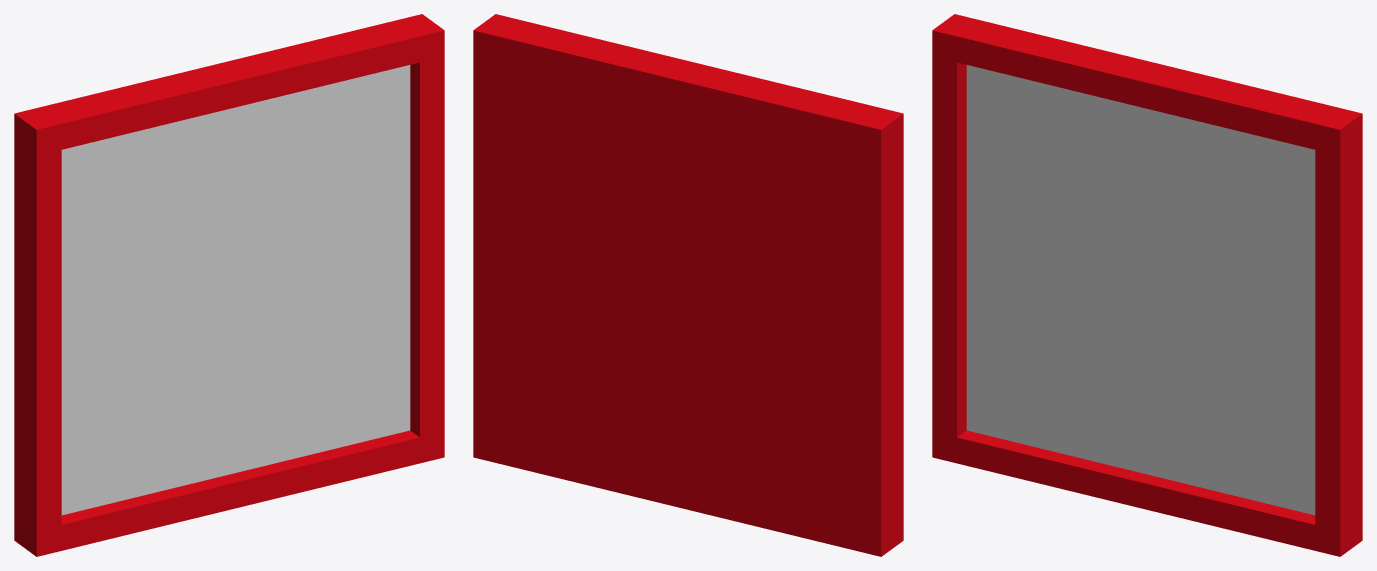
Rendered from Squareboard.fbx.
The picture shows the model from 3 angles, left to right: view 1: azimuth 30°, elevation 25°; view 2: azimuth 150°, elevation 25°; view 3: azimuth 330°, elevation 25°; orthographic projection.
Parts seen in each view (by area): view 1: Cube.005; view 2: Cube.005; view 3: Cube.005.
Part boxes in pixels (bbox=[...]): Cube.005: bbox=[14, 14, 444, 556]; Cube.005: bbox=[473, 14, 903, 556]; Cube.005: bbox=[932, 14, 1362, 556].
Size of the model in its own units: 101 by 101 by 9.59.
